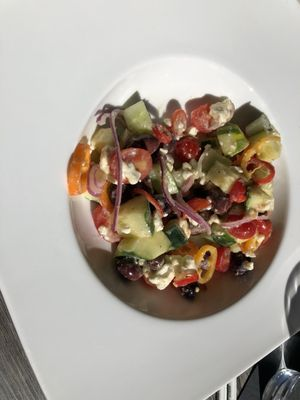sandwich: (65, 88, 293, 321)
